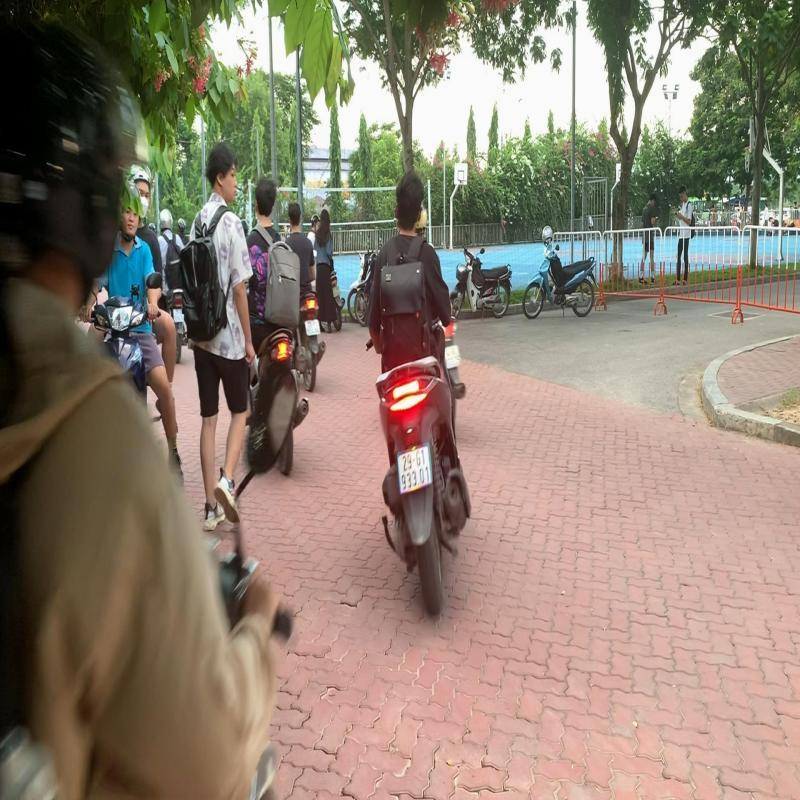nohelmet: (394, 166, 428, 233), (255, 172, 280, 220)
